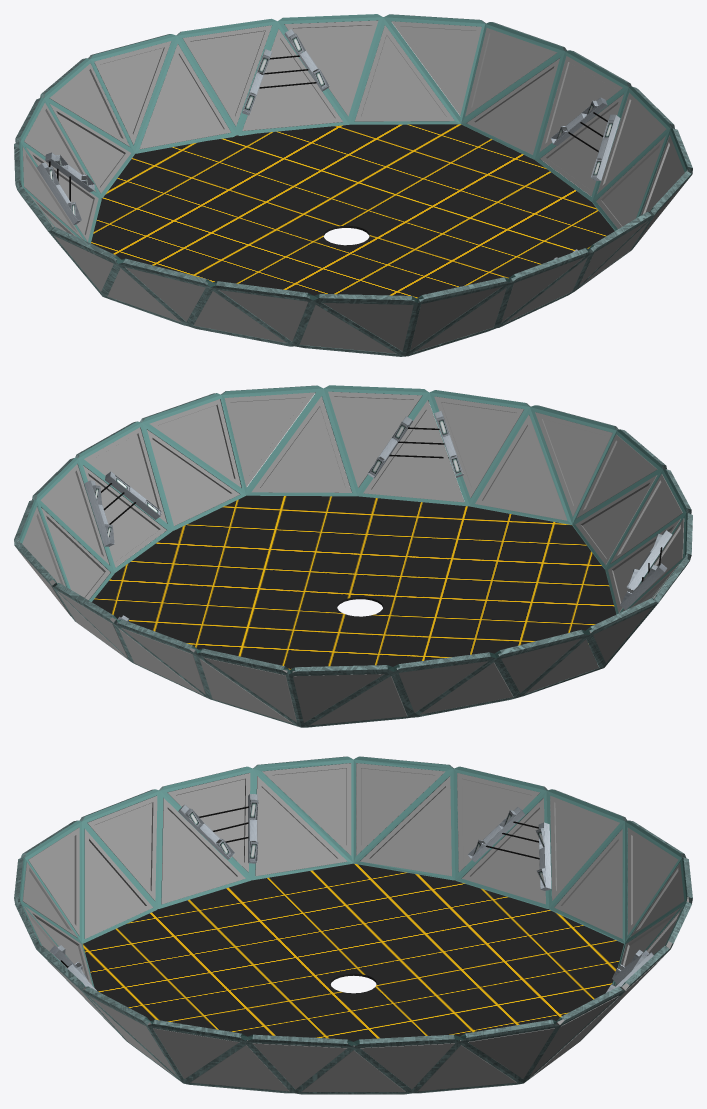
3 renders of one model, top to bottom at view 1: azimuth 30°, elevation 25°; view 2: azimuth 150°, elevation 25°; view 3: azimuth 270°, elevation 25°, orthographic.
Parts seen in each view (by area): view 1: Estructura esfera001, Suelo_D001; view 2: Estructura esfera001, Suelo_D001; view 3: Estructura esfera001, Suelo_D001.
Boxes of the visible parts, x1,y1,x2,y2 form: Estructura esfera001: (14, 14, 692, 356); Suelo_D001: (91, 124, 614, 298); Estructura esfera001: (14, 385, 692, 727); Suelo_D001: (92, 495, 616, 669); Estructura esfera001: (14, 756, 692, 1094); Suelo_D001: (82, 863, 623, 1041).
Size of the model in its own units: 86.69 by 12.24 by 86.58.
Materials: 6 (3 with a texture image).
